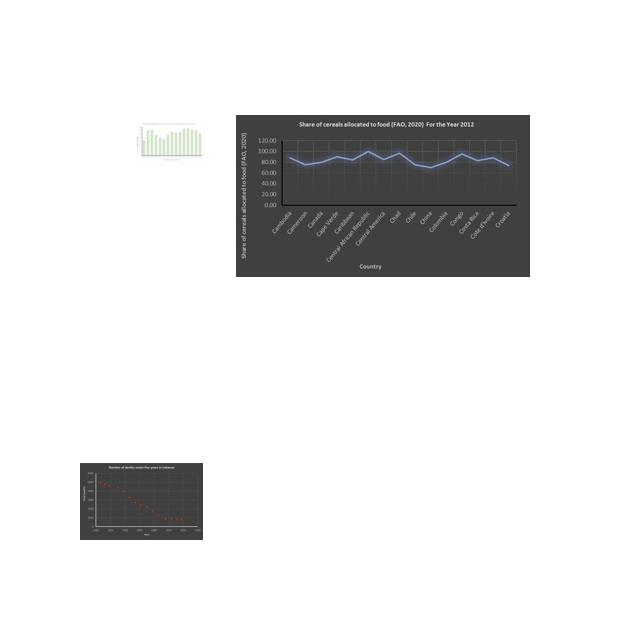Graph: (236, 115, 530, 277), (80, 463, 203, 540), (135, 122, 204, 163)
